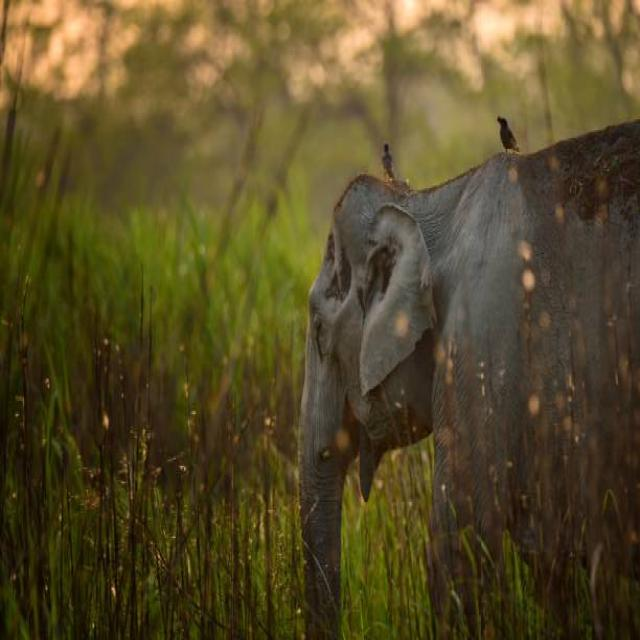Elephant: (298, 105, 640, 625)
